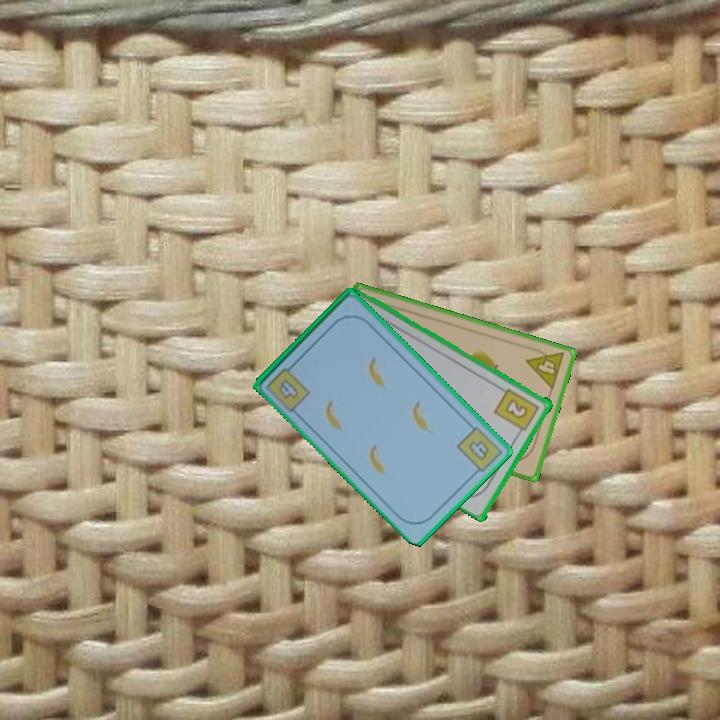2b: (491, 385, 543, 438)
4b: (453, 422, 505, 479), (275, 375, 302, 402)
4p: (523, 343, 568, 392)
